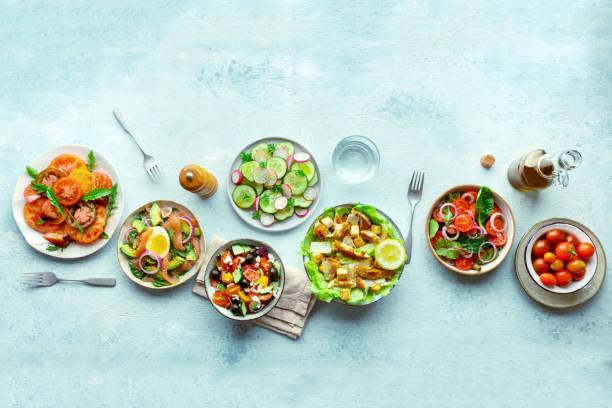Braised Crucian Carp: (9, 145, 119, 259), (302, 202, 406, 304), (426, 184, 517, 285), (226, 137, 320, 232), (514, 217, 606, 309), (117, 200, 206, 290), (204, 238, 284, 320)
